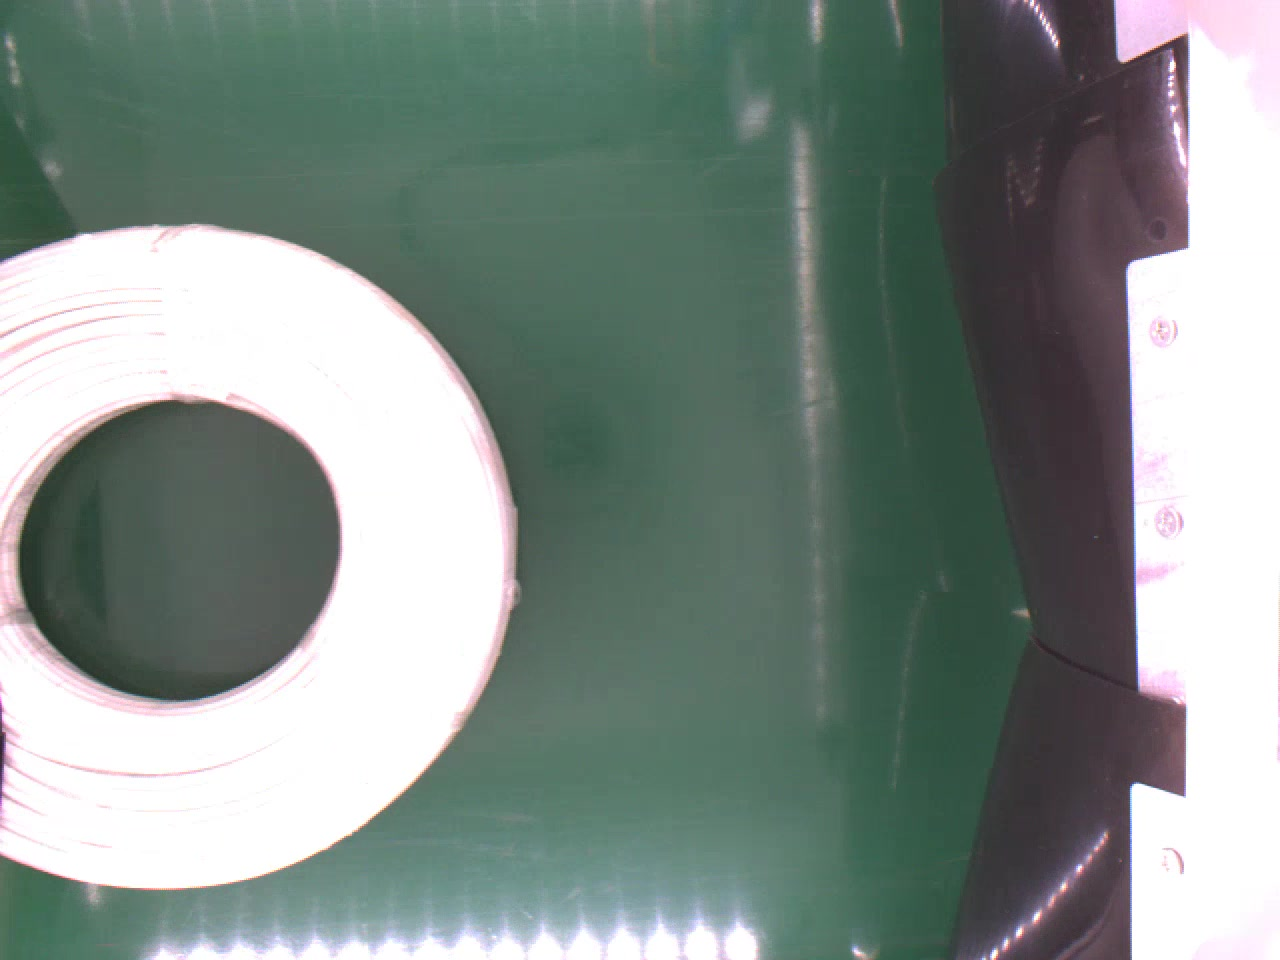white: (0, 222, 519, 888)
